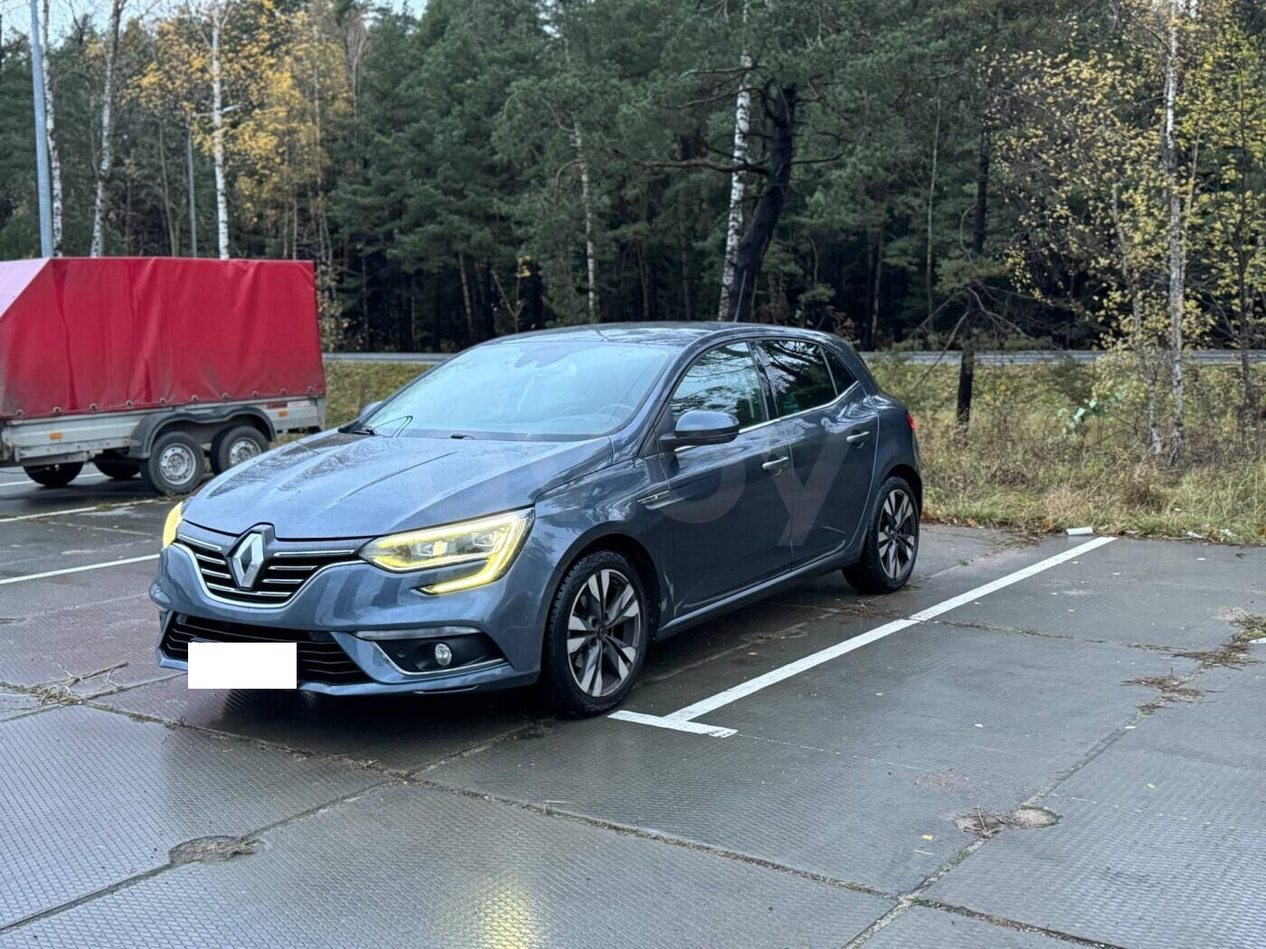Megane_2016-2020: (150, 315, 925, 717)
